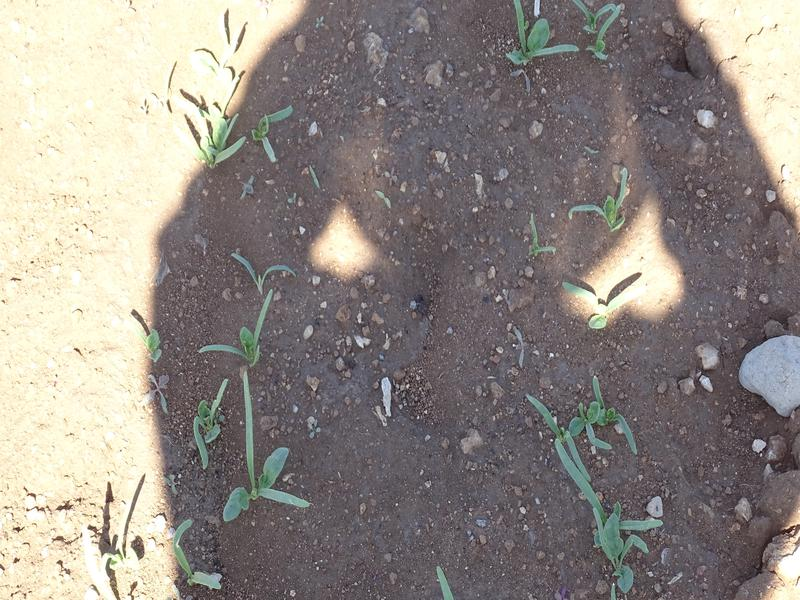Espinaca: (183, 260, 317, 511), (524, 380, 657, 584), (183, 23, 303, 169), (79, 504, 211, 592), (509, 4, 614, 71), (557, 273, 661, 313), (584, 172, 631, 234)
